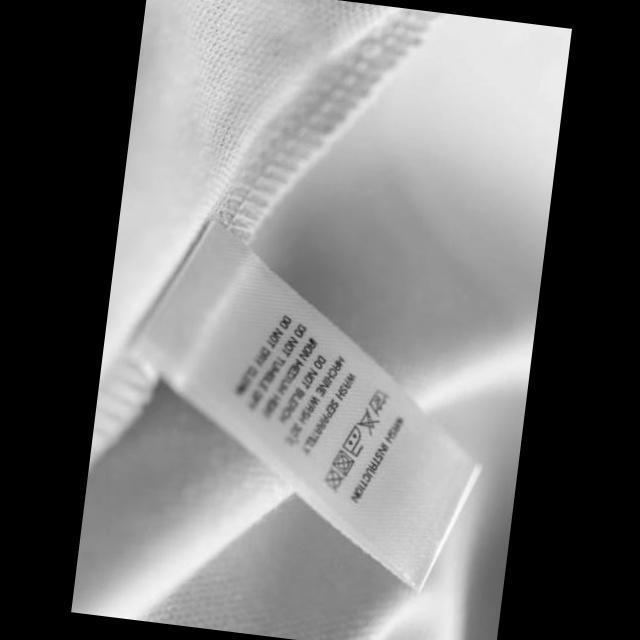30C: (362, 385, 390, 420)
DN_bleach: (352, 406, 382, 438)
DN_dry_clean: (318, 463, 346, 498)
DN_tumble_dry: (328, 446, 357, 479)
iron_medium: (338, 422, 367, 460)
